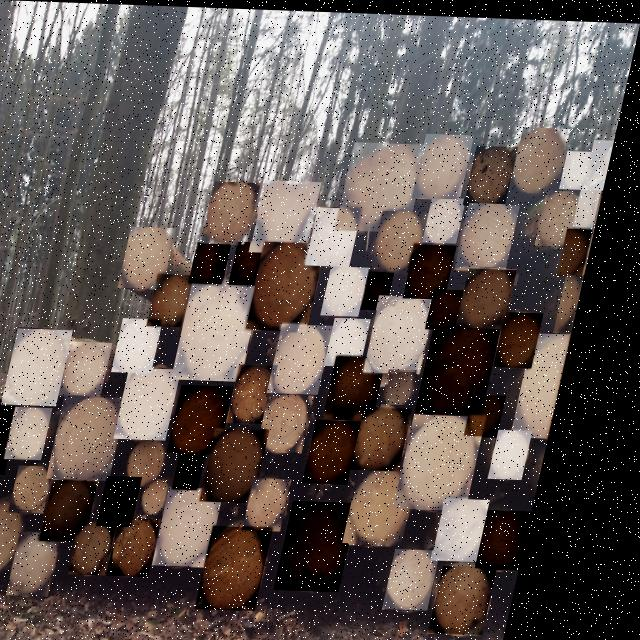wood-log: (196, 278, 269, 378), (423, 412, 496, 505), (353, 141, 426, 228), (438, 323, 509, 410), (307, 499, 372, 587), (267, 240, 330, 327), (74, 396, 139, 479), (228, 524, 289, 607), (537, 330, 584, 434), (385, 293, 444, 370), (25, 328, 82, 405), (373, 468, 433, 541), (183, 486, 239, 563), (269, 178, 327, 251), (226, 427, 283, 500), (137, 367, 192, 438), (461, 562, 518, 629), (0, 497, 48, 575), (288, 322, 342, 391), (192, 384, 246, 452), (471, 201, 524, 267), (424, 131, 474, 195), (347, 354, 397, 417), (327, 418, 376, 481), (376, 404, 425, 467), (522, 124, 570, 188), (216, 180, 264, 242), (460, 495, 508, 557), (473, 265, 523, 324), (68, 479, 116, 540), (386, 208, 433, 269), (37, 532, 82, 595), (135, 226, 182, 286), (414, 546, 461, 606), (280, 392, 327, 448), (503, 507, 549, 564), (137, 516, 181, 575), (476, 143, 520, 201), (0, 399, 34, 474), (322, 206, 366, 263), (249, 363, 291, 421), (420, 242, 464, 294), (81, 341, 124, 394), (131, 317, 173, 371), (548, 187, 589, 242), (513, 308, 554, 363), (96, 521, 136, 573), (270, 476, 310, 527), (29, 407, 68, 459), (166, 273, 205, 325), (337, 264, 377, 312), (123, 475, 160, 525), (343, 315, 381, 363), (512, 426, 548, 474), (35, 466, 71, 510), (437, 195, 471, 238), (204, 241, 238, 282), (570, 224, 599, 272), (441, 286, 475, 326), (486, 391, 519, 432), (246, 240, 275, 283), (569, 270, 591, 326), (569, 147, 600, 185), (591, 135, 613, 185), (402, 367, 431, 404), (376, 269, 403, 307), (165, 477, 192, 513), (196, 452, 223, 488), (583, 185, 606, 224)
